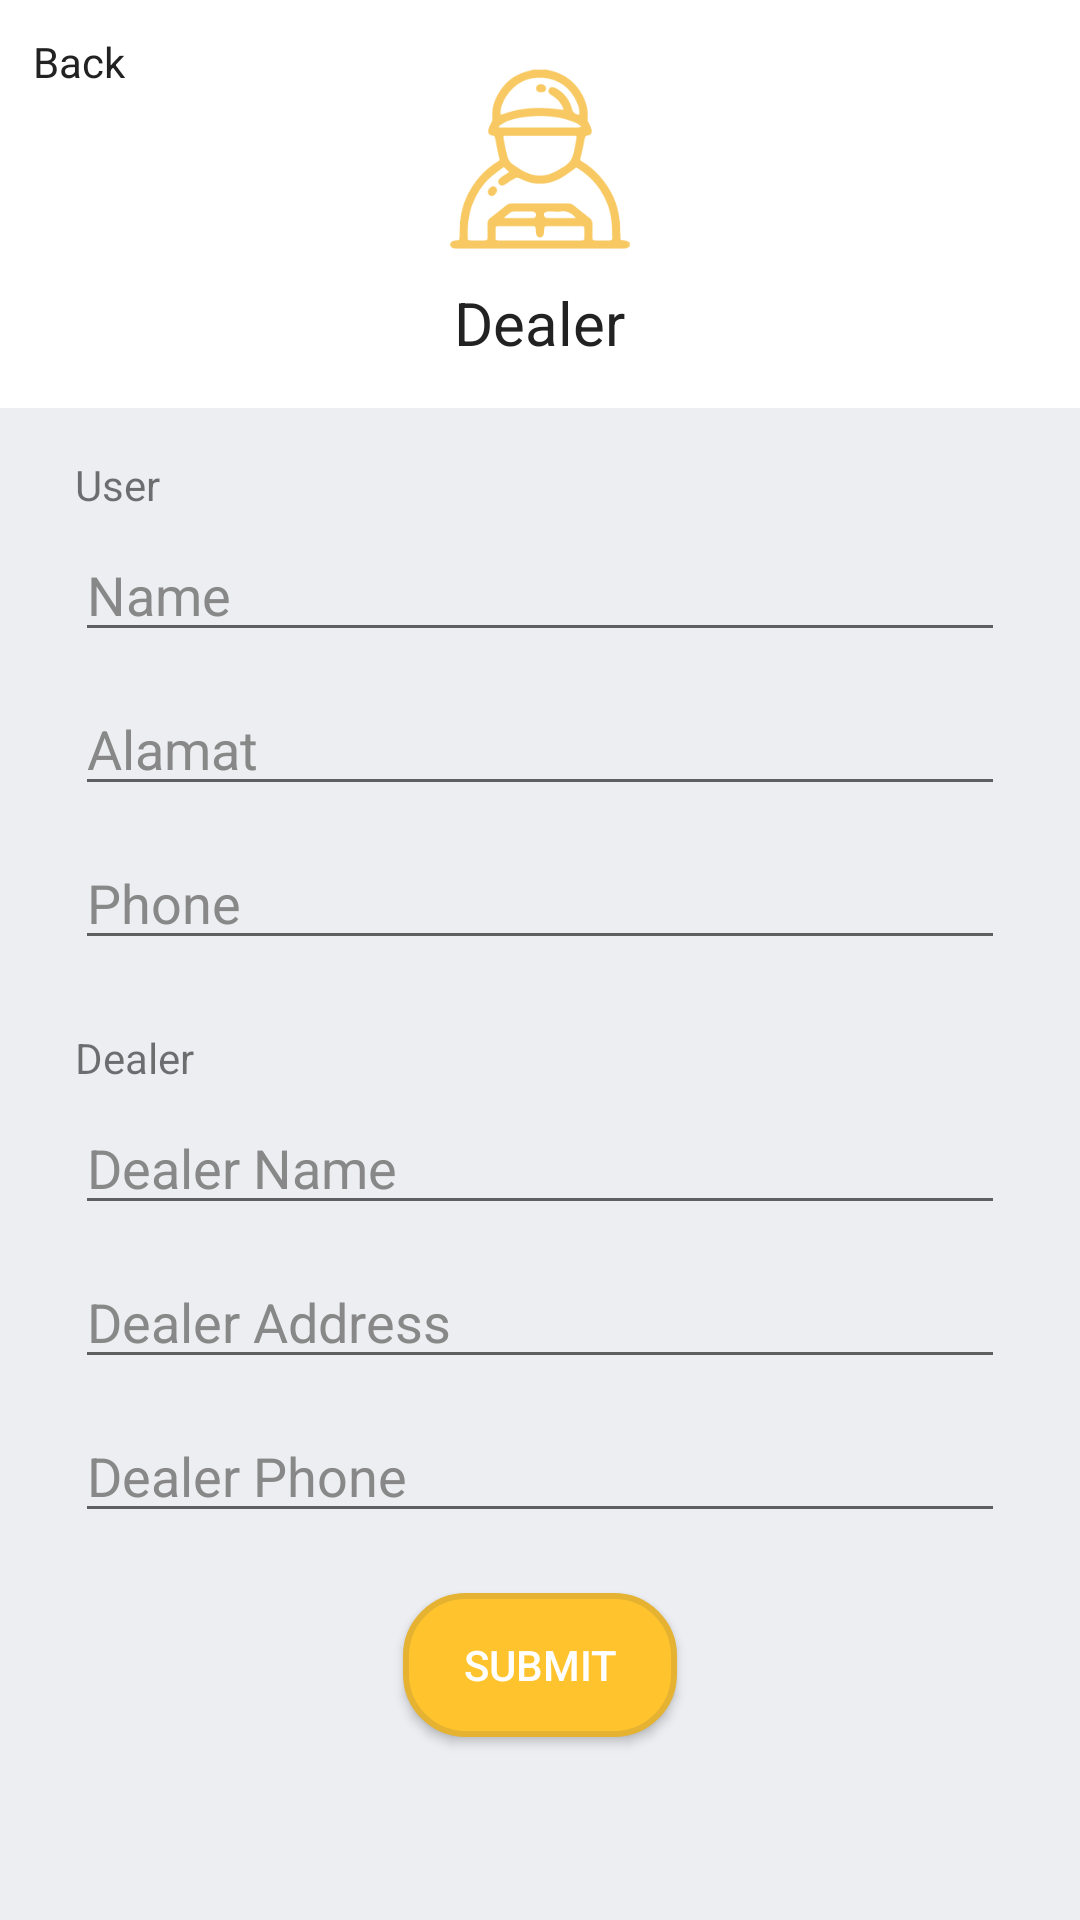

Screen size 1080×1920. Icon name, then its box in pixels as (x1=x1, y1=y1, x2=x2, y2=y2):
iconsales: (x1=450, y1=69, x2=630, y2=249)
